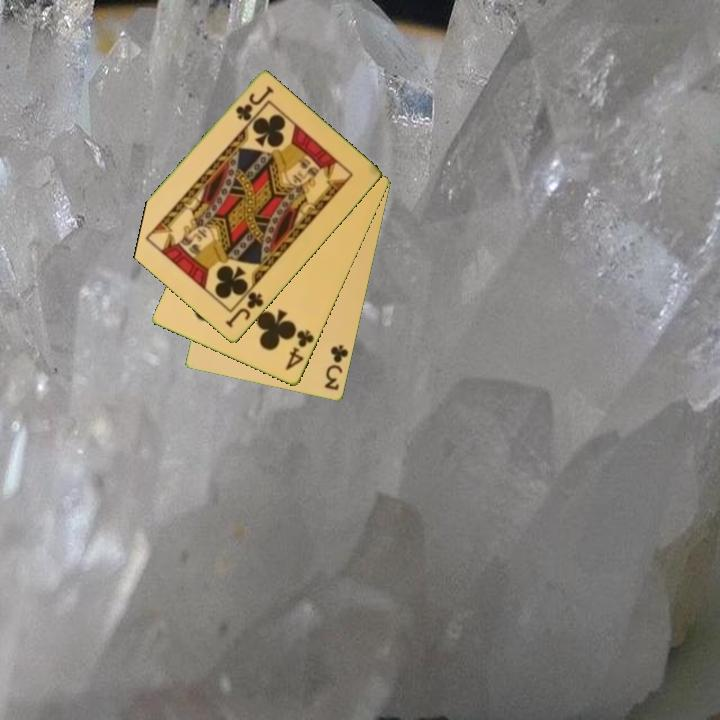3c: (321, 342, 352, 394)
4c: (282, 326, 317, 374)
Jc: (222, 288, 267, 331), (232, 83, 276, 124)
